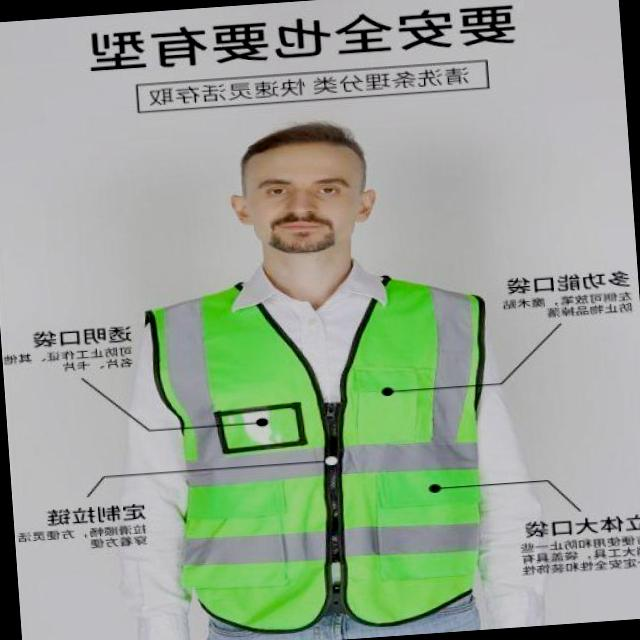vest: (144, 272, 511, 628)
